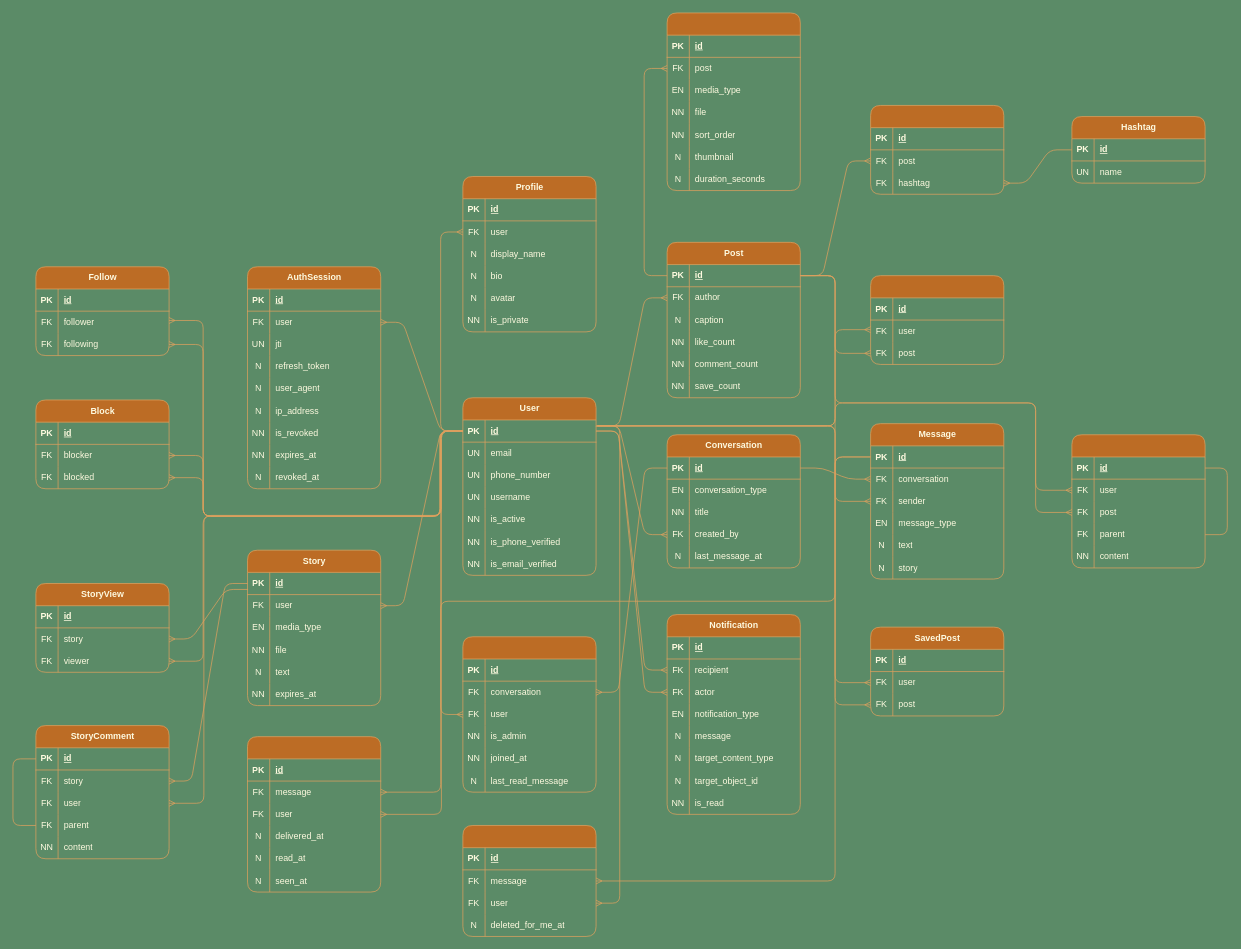
The diagram is 1241 pixels wide and 949 high, and some of its shapes have lost their labels. Each missing label, with the box of its shape:
Comment: (1071, 434, 1205, 568)
ConversationParticipant: (462, 636, 596, 792)
MessageRecipientStatus: (247, 736, 381, 892)
MessageUserState: (462, 825, 596, 936)
PostHashtag: (870, 105, 1004, 194)
PostLike: (870, 275, 1004, 364)
PostMedia: (666, 12, 800, 191)
